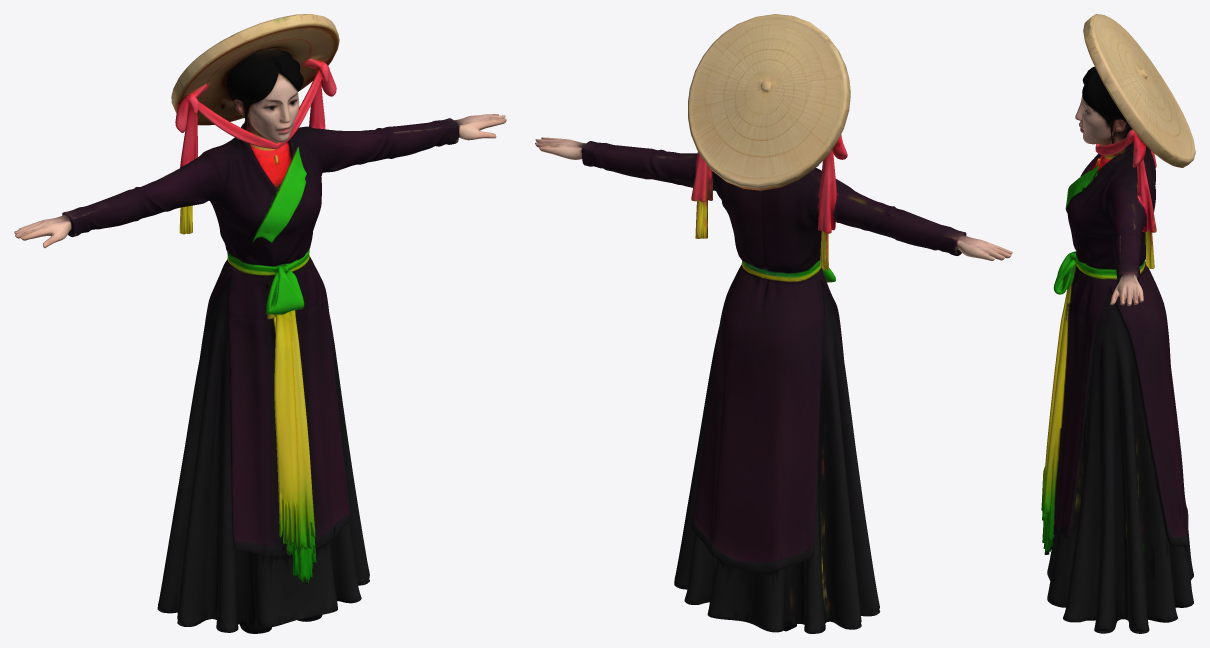
File: quan-ho-nu.glb
The picture shows the model from 3 angles, left to right: view 1: azimuth 30°, elevation 25°; view 2: azimuth 150°, elevation 25°; view 3: azimuth 270°, elevation 25°; orthographic projection. The views are drawn at different scales.
Parts seen in each view (by area): view 1: node_0; view 2: node_0; view 3: node_0.
Part boxes in pixels (left/top/right/bottom): node_0: left=14, top=14, right=506, bottom=633; node_0: left=535, top=14, right=1012, bottom=633; node_0: left=1041, top=14, right=1195, bottom=633.
Bounding box in the file's own units: 1.01 × 1.18 × 0.2858.
1 material, 1 textured.
